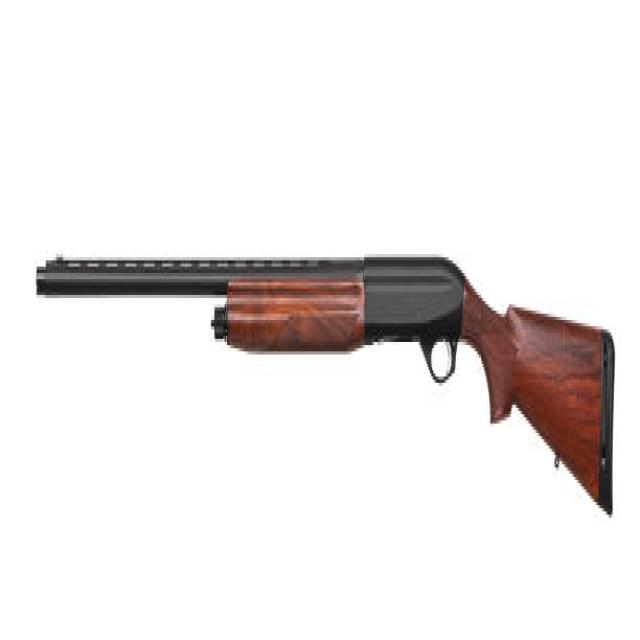rifle: (30, 223, 627, 543)
